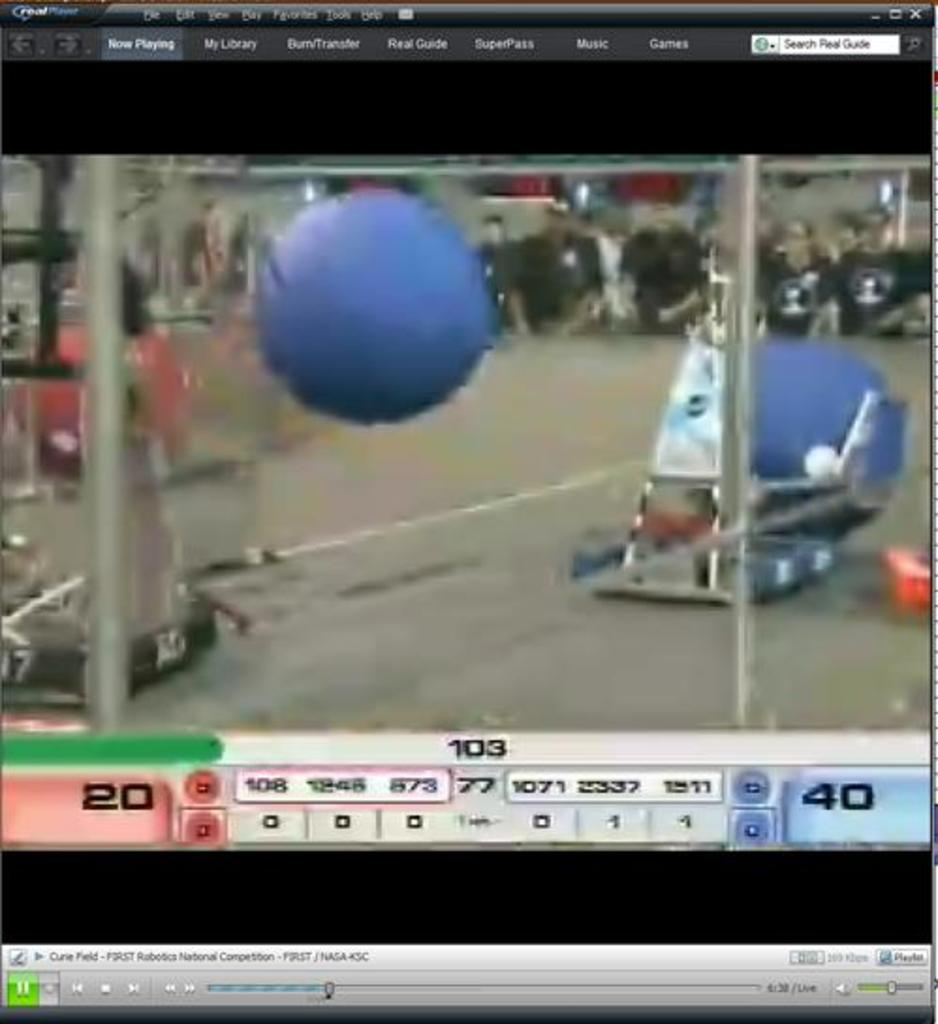Ball: (256, 188, 498, 425), (750, 336, 906, 535), (26, 325, 190, 479)
